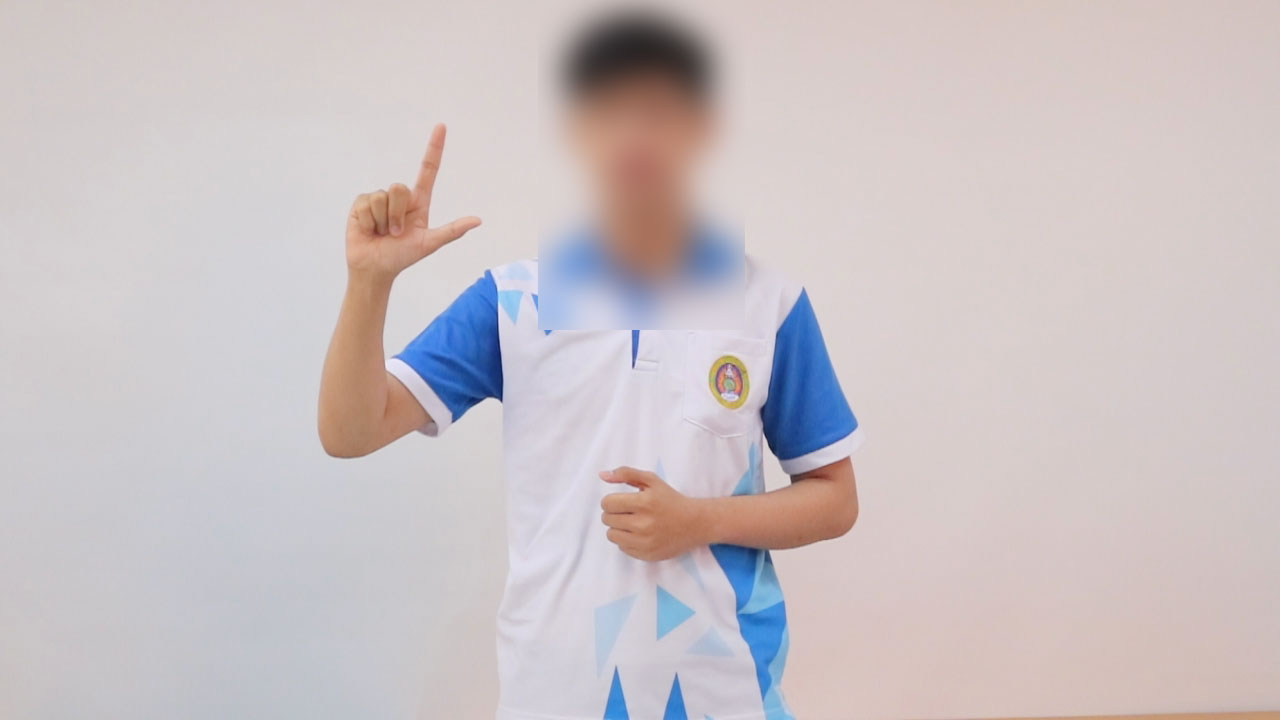lor: (286, 108, 536, 289)
